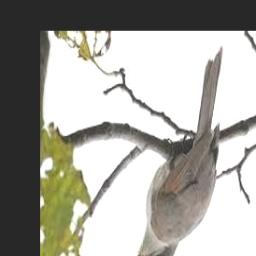Cuckoo: (123, 47, 222, 256)
